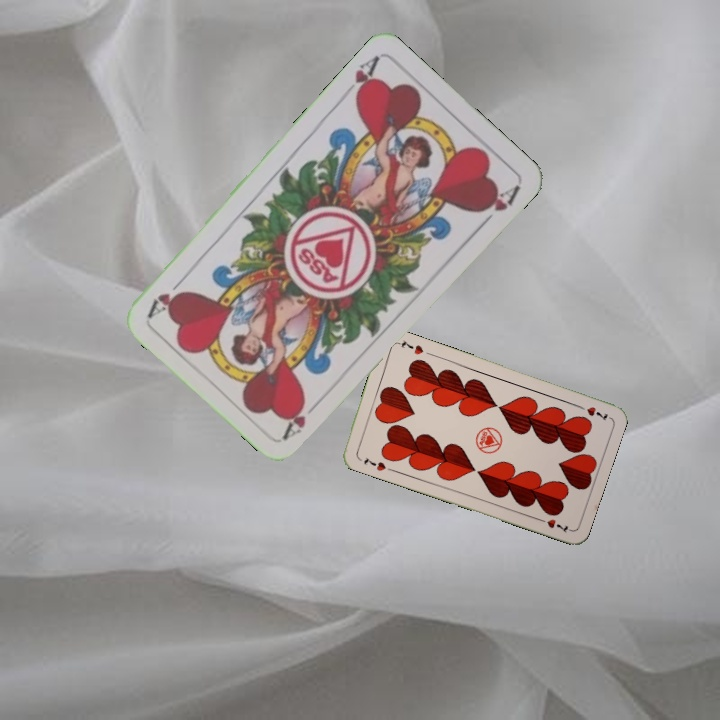H7: (573, 401, 611, 423), (359, 453, 388, 474)
HA: (337, 52, 382, 106), (279, 394, 325, 441)
